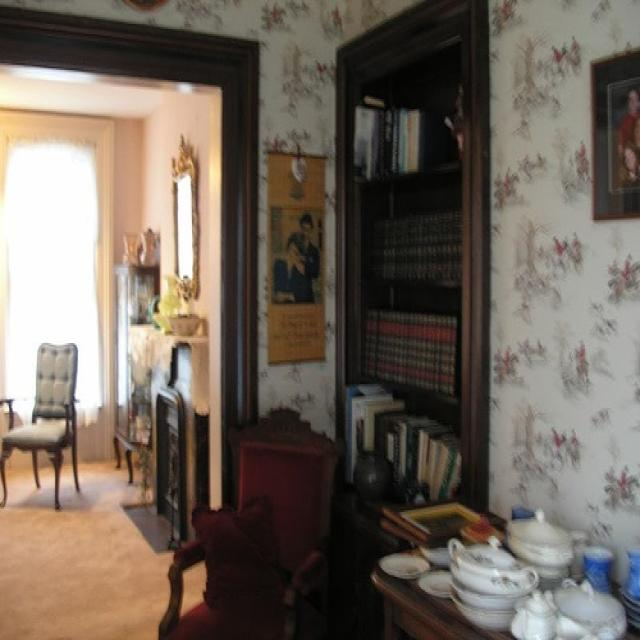chair: (155, 403, 343, 638), (0, 338, 82, 512)
